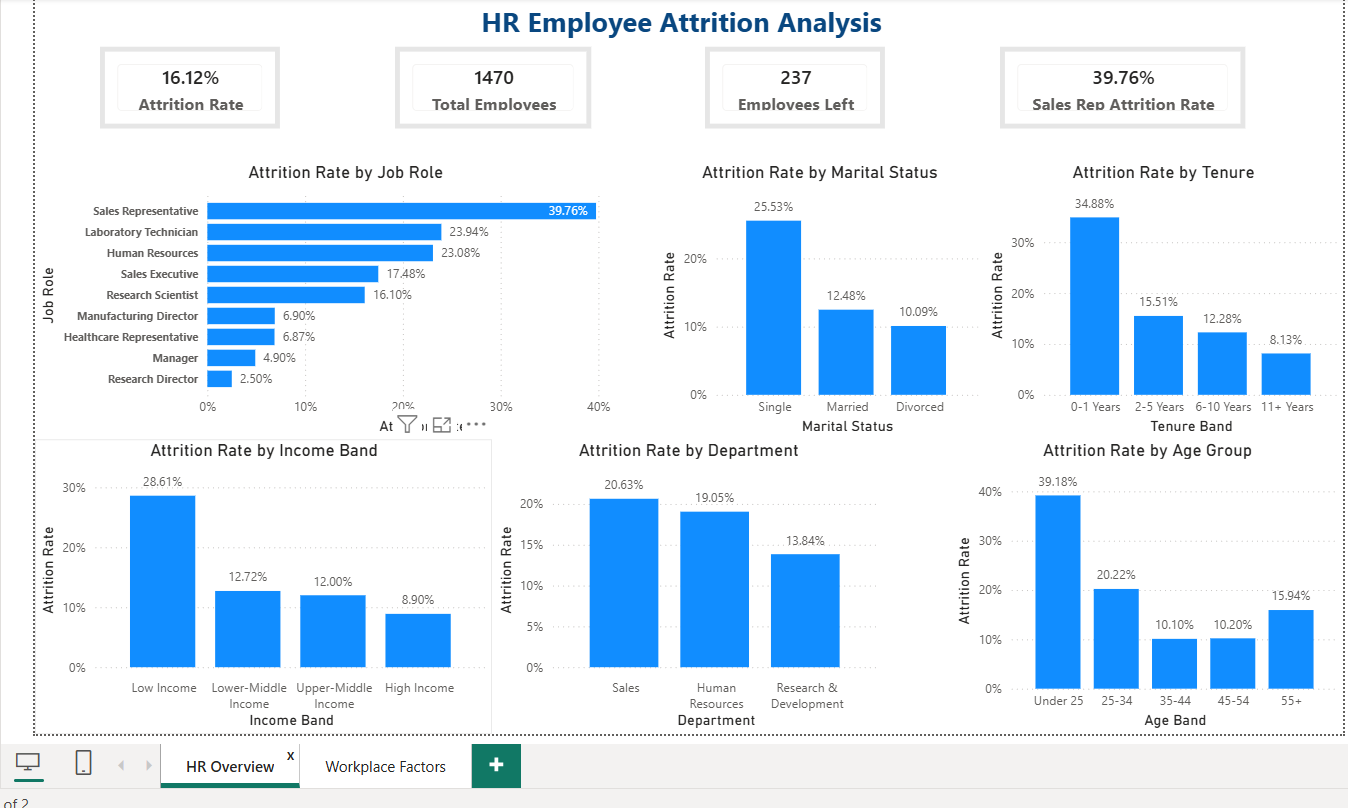

What the dashboard file says about the page in this screenshot:
{"tool":"powerbi","page":{"name":"HR Overview","canvas":[1280,720],"ordinal":0},"visuals":[{"type":"cardVisual","fields":{"Data":["A measure.Attrition Rate"]},"box":[64,48,176,80],"z":0},{"type":"clusteredBarChart","title":"Attrition Rate by Job Role","fields":{"Category":["HR_Employee_Attrition_Clean.JobRole"],"Y":["A measure.Attrition Rate"]},"box":[0,160,608,272],"z":1000},{"type":"clusteredColumnChart","title":"\tAttrition Rate by Income Band","fields":{"Category":["HR_Employee_Attrition_Clean.Income Band"],"Y":["A measure.Attrition Rate"]},"box":[0,432,448,288],"z":2000},{"type":"clusteredColumnChart","title":"\tAttrition Rate by Tenure","fields":{"Category":["HR_Employee_Attrition_Clean.Tenure Band"],"Y":["A measure.Attrition Rate"]},"box":[928,160,352,272],"z":3000},{"type":"clusteredColumnChart","title":"Attrition Rate by Age Group","fields":{"Y":["A measure.Attrition Rate"],"Category":["HR_Employee_Attrition_Clean.Age Band"]},"box":[896,432,384,288],"z":4000},{"type":"clusteredColumnChart","title":"\tAttrition Rate by Marital Status","fields":{"Category":["HR_Employee_Attrition_Clean.MaritalStatus"],"Y":["A measure.Attrition Rate"]},"box":[608,160,320,272],"z":5000},{"type":"clusteredColumnChart","fields":{"Category":["HR_Employee_Attrition_Clean.Department"],"Y":["A measure.Attrition Rate"]},"box":[448,432,384,288],"z":6000},{"type":"textbox","box":[320,0,624,48],"z":7000},{"type":"cardVisual","fields":{"Data":["A measure.Total Employees"]},"box":[352,48,192,80],"z":8000},{"type":"cardVisual","fields":{"Data":["A measure.Employees Left"]},"box":[656,48,176,80],"z":9000},{"type":"cardVisual","fields":{"Data":["A measure.Top Job Role Rate"]},"box":[944,48,240,80],"z":10000}]}

Visuals, with their boxes on the page's 1280x720 design canvas (x1, y1, x2, y2). These are canvas units, not pixel positions in the 1348x808 screenshot, which may show the page scaled, cropped or inside an application window:
cardVisual - A measure.Attrition Rate: pyautogui.locateOnScreen(64, 48, 240, 128)
"Attrition Rate by Job Role" clusteredBarChart: pyautogui.locateOnScreen(0, 160, 608, 432)
"	Attrition Rate by Income Band" clusteredColumnChart: pyautogui.locateOnScreen(0, 432, 448, 720)
"	Attrition Rate by Tenure" clusteredColumnChart: pyautogui.locateOnScreen(928, 160, 1280, 432)
"Attrition Rate by Age Group" clusteredColumnChart: pyautogui.locateOnScreen(896, 432, 1280, 720)
"	Attrition Rate by Marital Status" clusteredColumnChart: pyautogui.locateOnScreen(608, 160, 928, 432)
clusteredColumnChart - HR_Employee_Attrition_Clean.Department x A measure.Attrition Rate: pyautogui.locateOnScreen(448, 432, 832, 720)
textbox: pyautogui.locateOnScreen(320, 0, 944, 48)
cardVisual - A measure.Total Employees: pyautogui.locateOnScreen(352, 48, 544, 128)
cardVisual - A measure.Employees Left: pyautogui.locateOnScreen(656, 48, 832, 128)
cardVisual - A measure.Top Job Role Rate: pyautogui.locateOnScreen(944, 48, 1184, 128)
